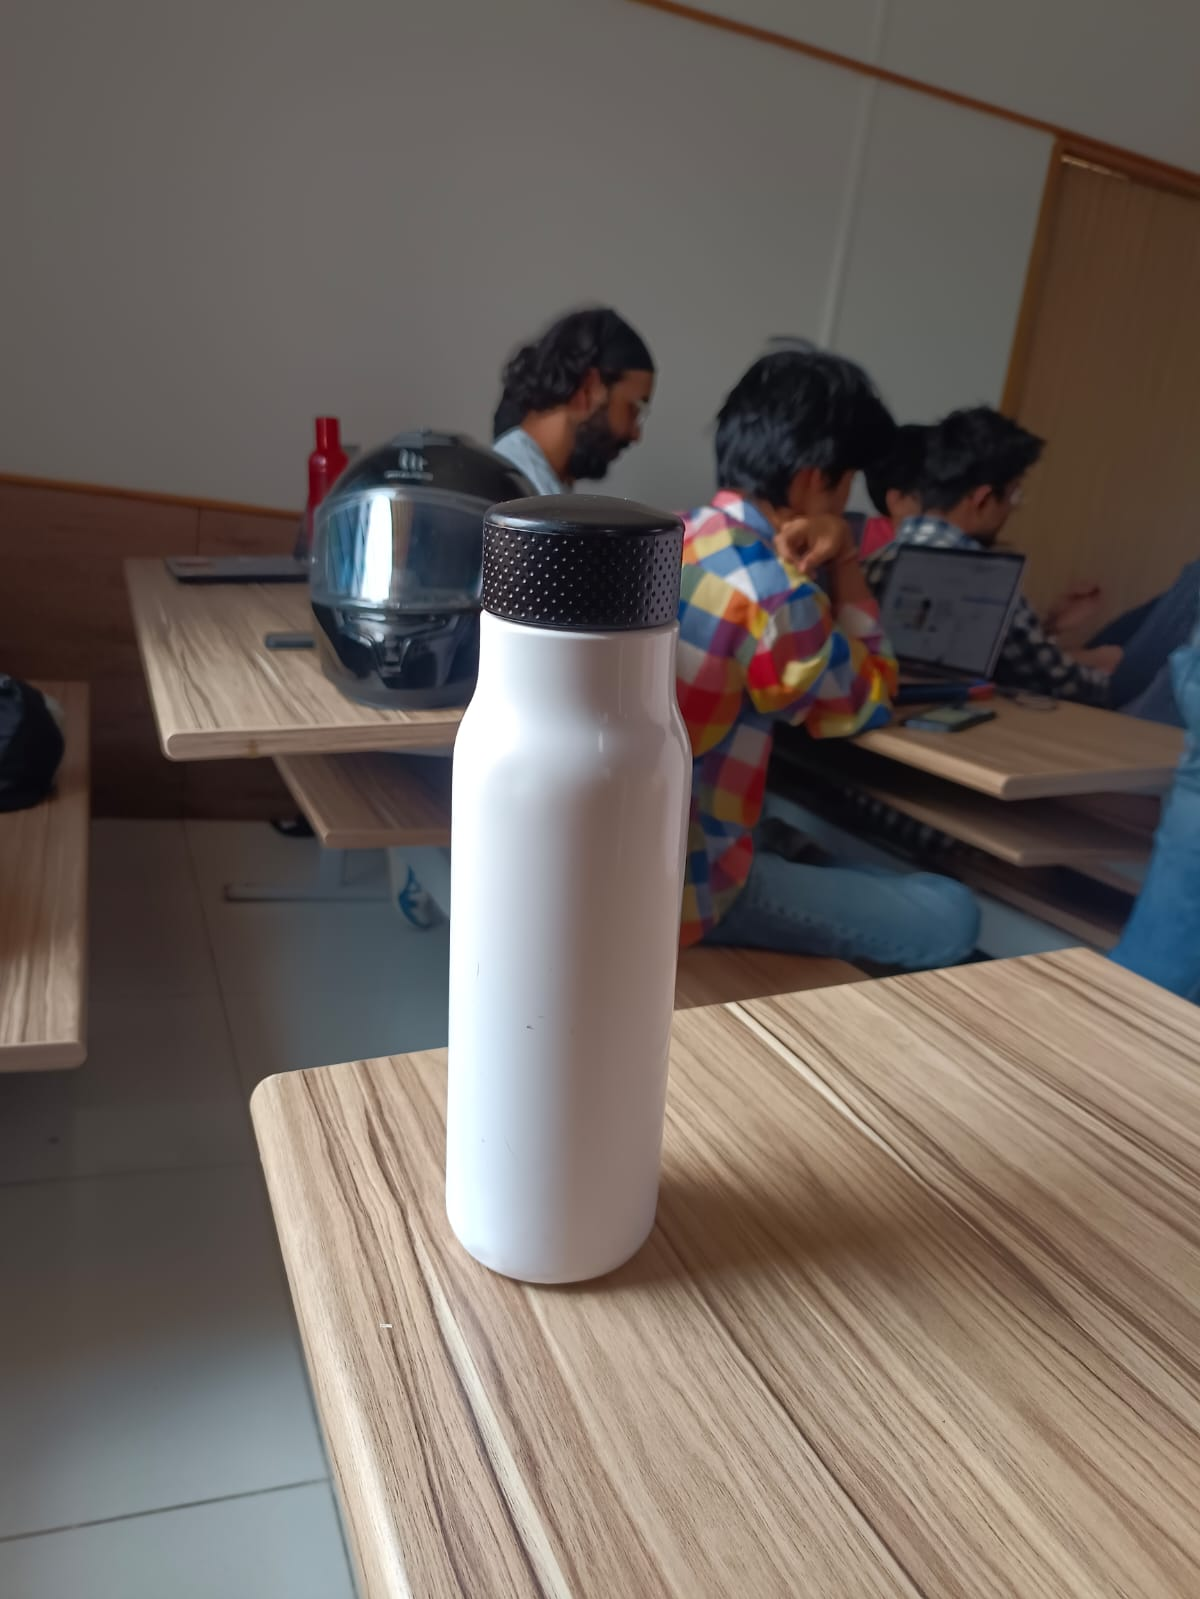bottle: (440, 494, 701, 1299)
